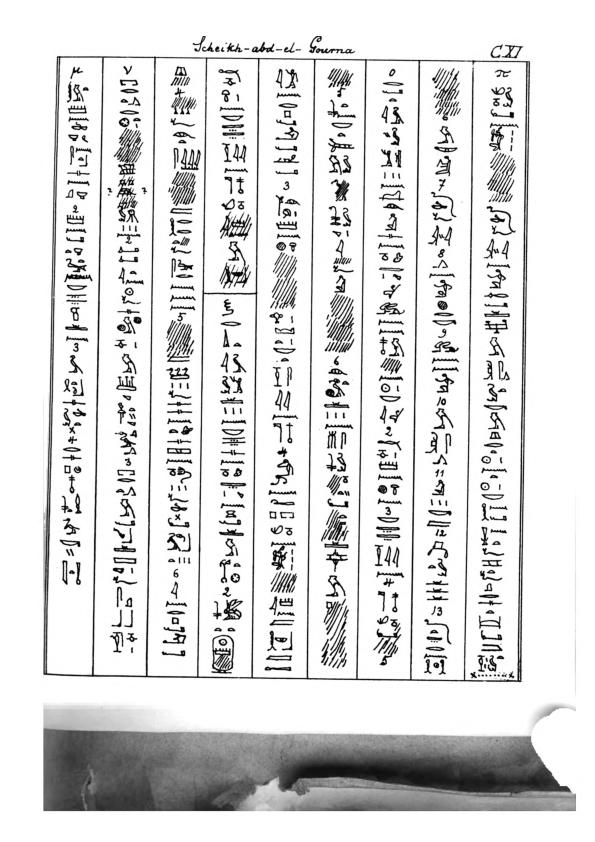circle: (209, 634, 236, 676)
